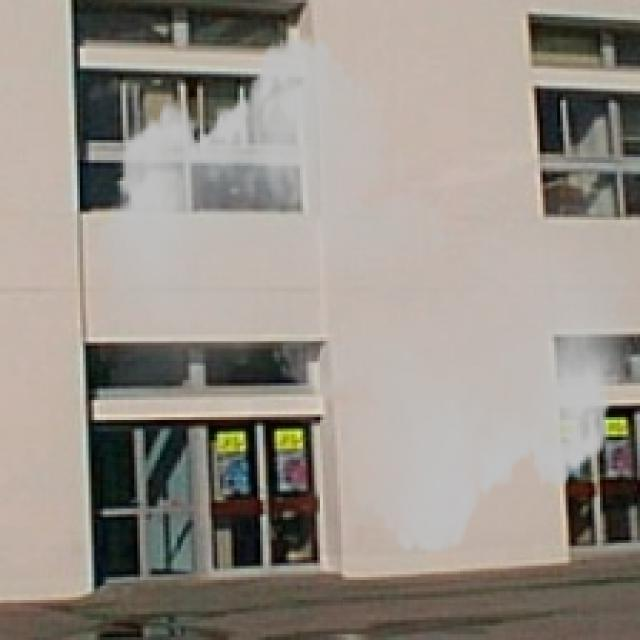smoke: (89, 20, 637, 574)
